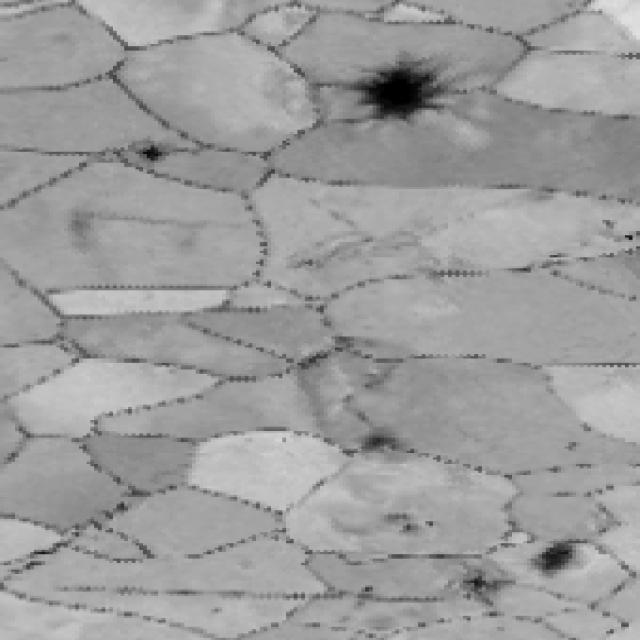good_void: (338, 63, 472, 136), (446, 563, 524, 612), (313, 327, 381, 365), (528, 538, 588, 581), (381, 506, 445, 541), (331, 433, 402, 464), (593, 215, 640, 250), (127, 136, 172, 172), (289, 247, 342, 275), (347, 578, 385, 600)
